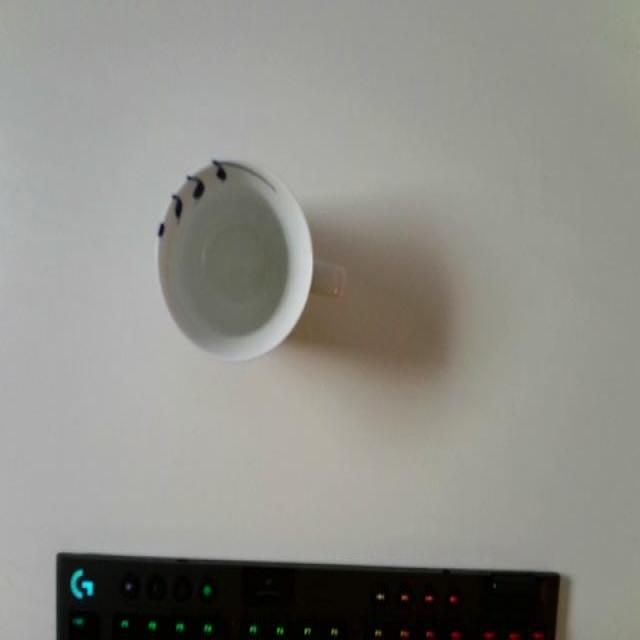cup: (134, 124, 340, 374)
